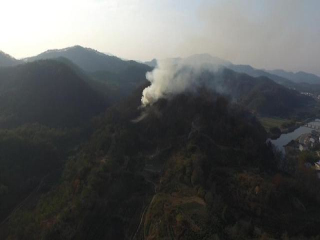smoke: (138, 51, 235, 111)
